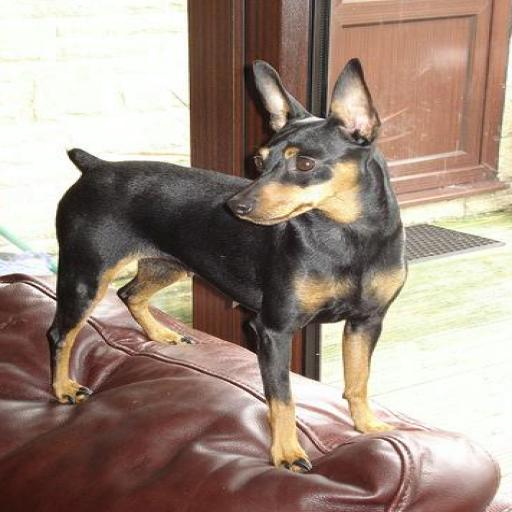dog_face: (228, 62, 386, 234)
